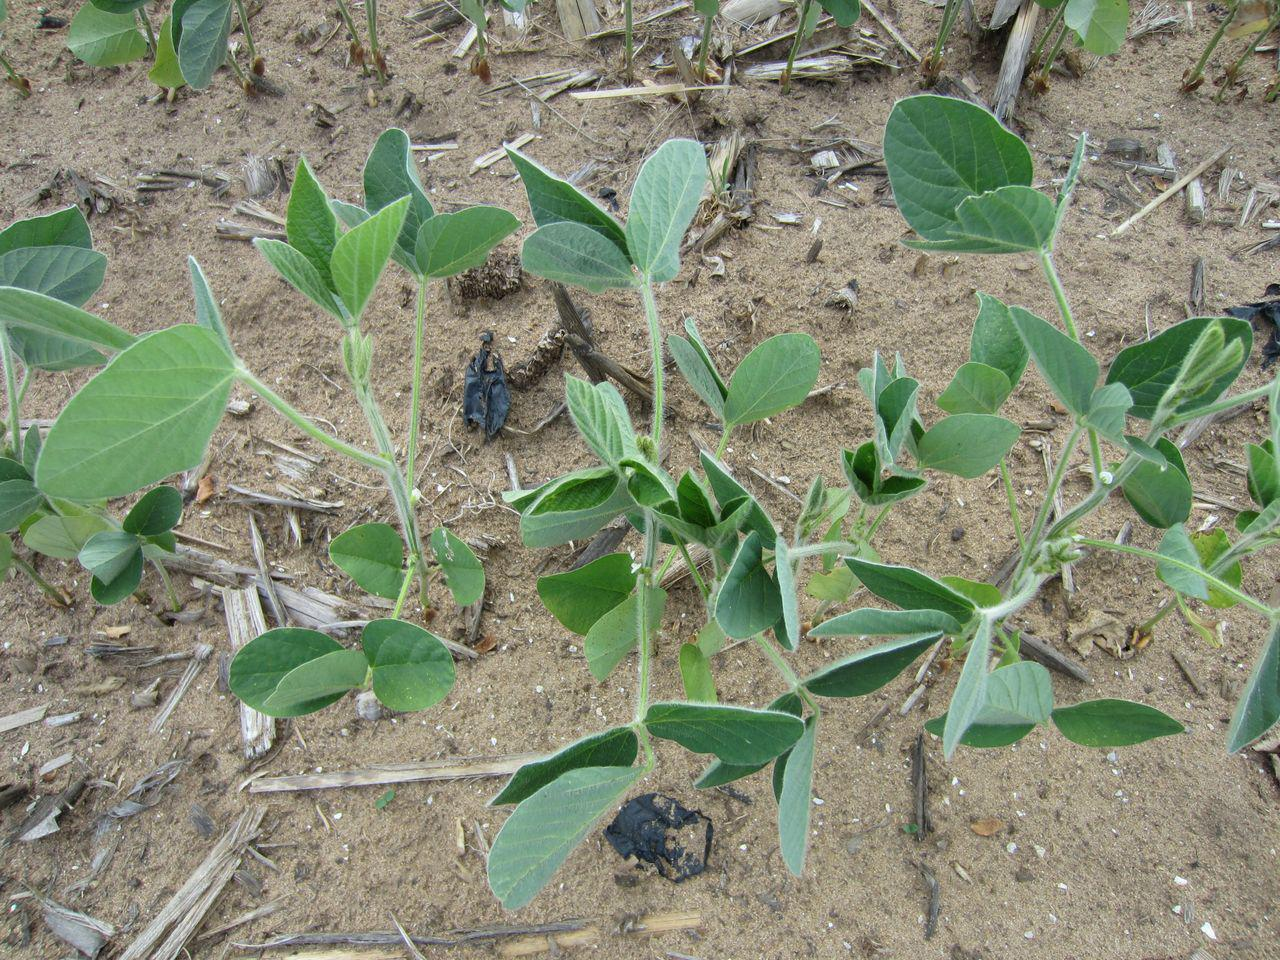Soyabean leaf: (28, 321, 241, 506), (878, 91, 1034, 253), (486, 759, 637, 913), (625, 134, 712, 282), (326, 189, 414, 322), (723, 327, 820, 438), (355, 618, 456, 722), (417, 203, 518, 294), (517, 220, 636, 292), (565, 375, 628, 473)
